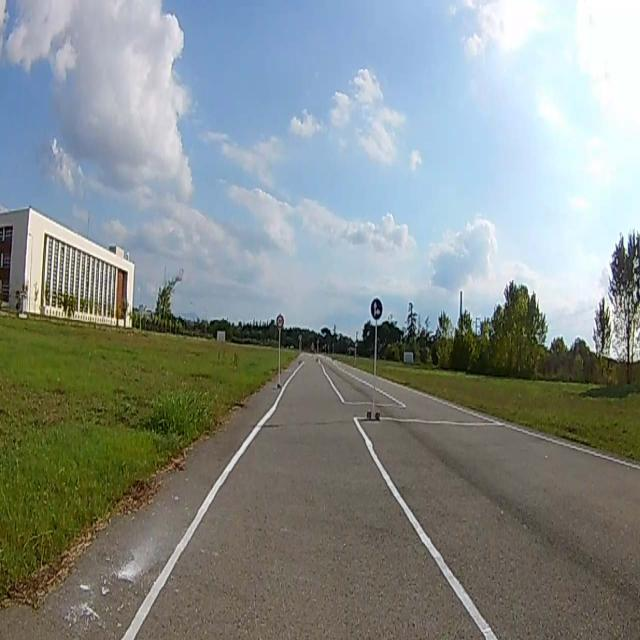ilerisag: (370, 300, 382, 319)
